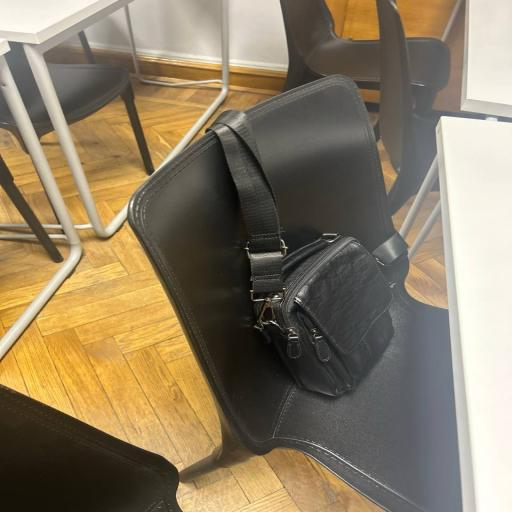bottle: (129, 78, 462, 512), (0, 43, 154, 175), (279, 0, 450, 106)
door: (210, 110, 405, 396)
phone: (400, 116, 512, 512)
